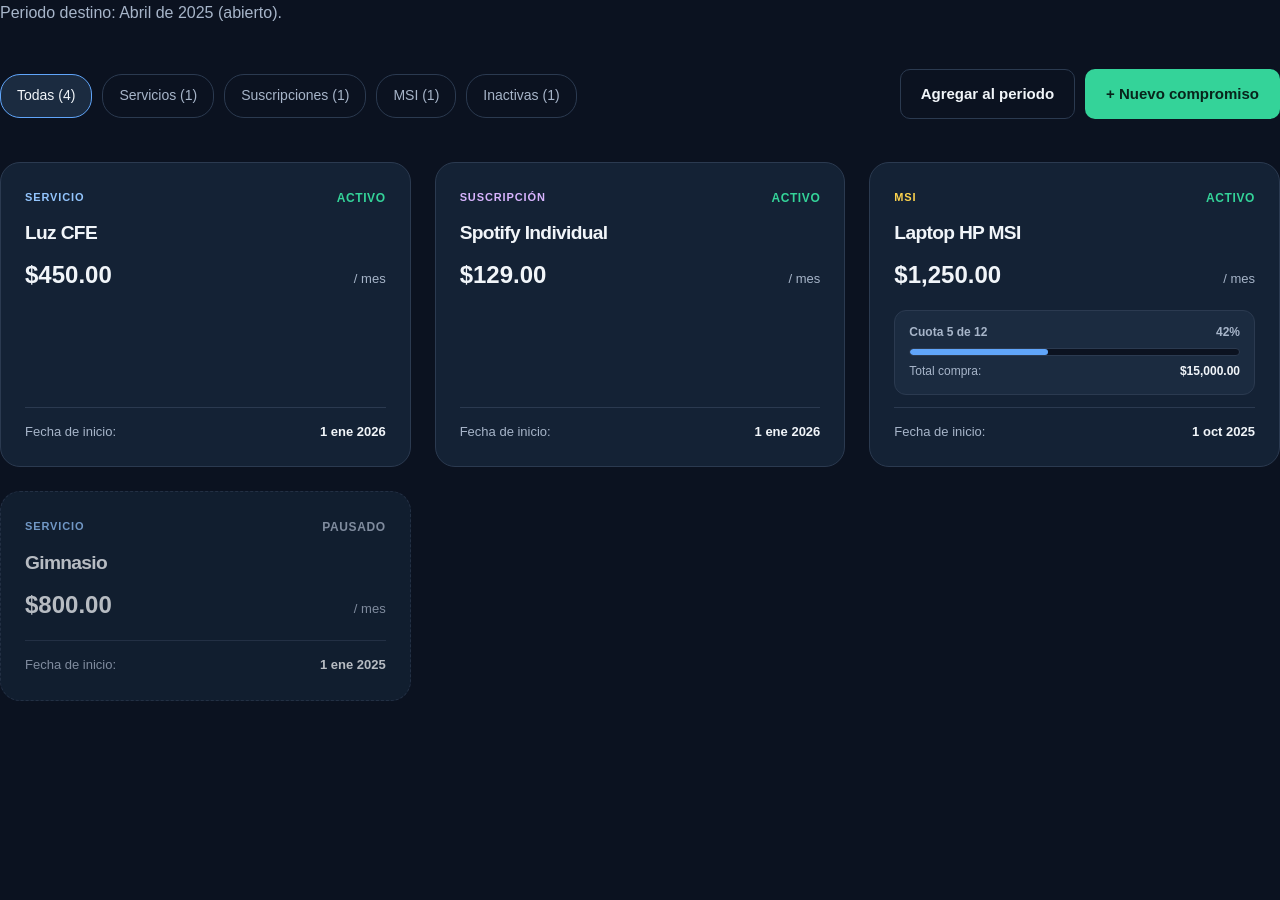
Test: RecurringList › explains zero new expenses
Step 1. Click the button "Agregar al periodo" → (987, 94), box [900,69,1075,119]
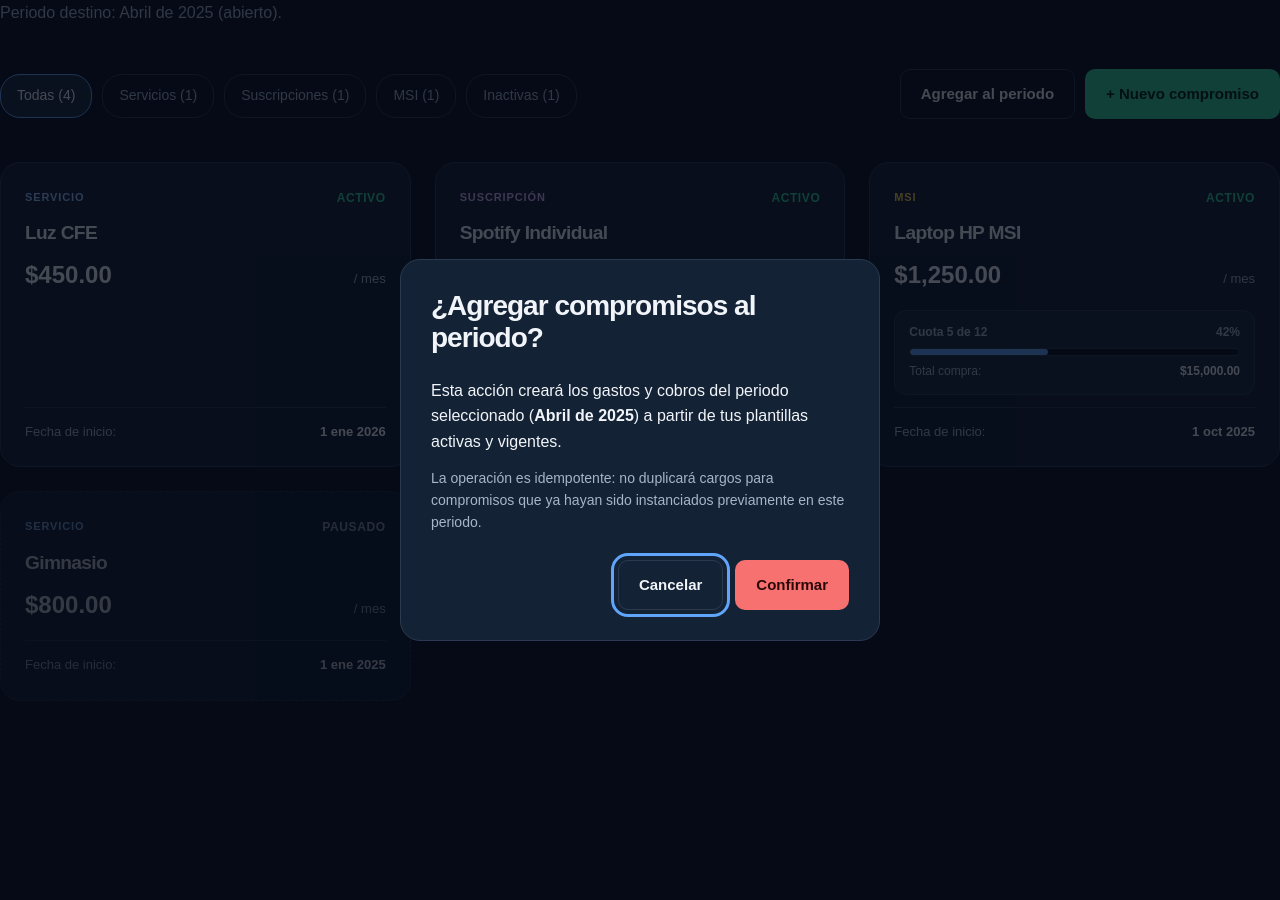
Step 2. Click the button "Confirmar" → (792, 585), box [735,560,849,610]
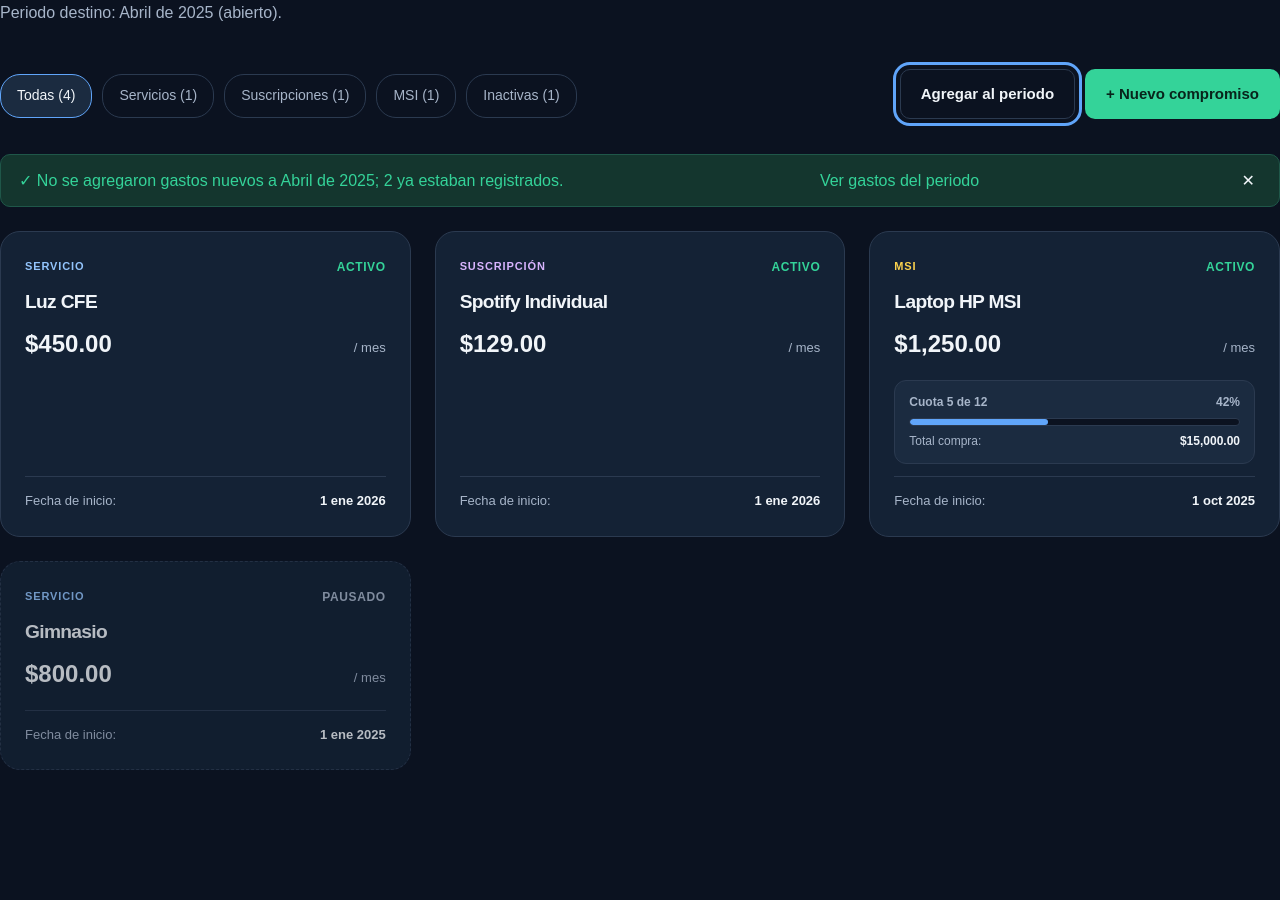
Now the message shows "2 ya estaban registrados", box [37,172,564,189]
